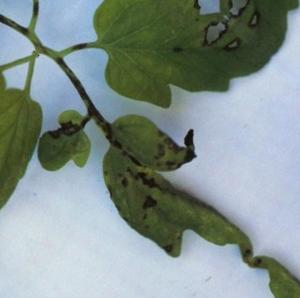Tomato leaf bacterial spot: (70, 87, 288, 294), (62, 0, 276, 159)
